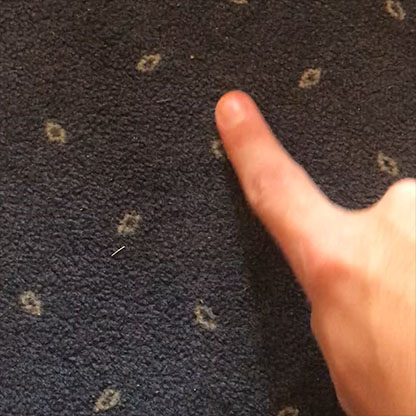fingertip: (191, 85, 279, 140)
